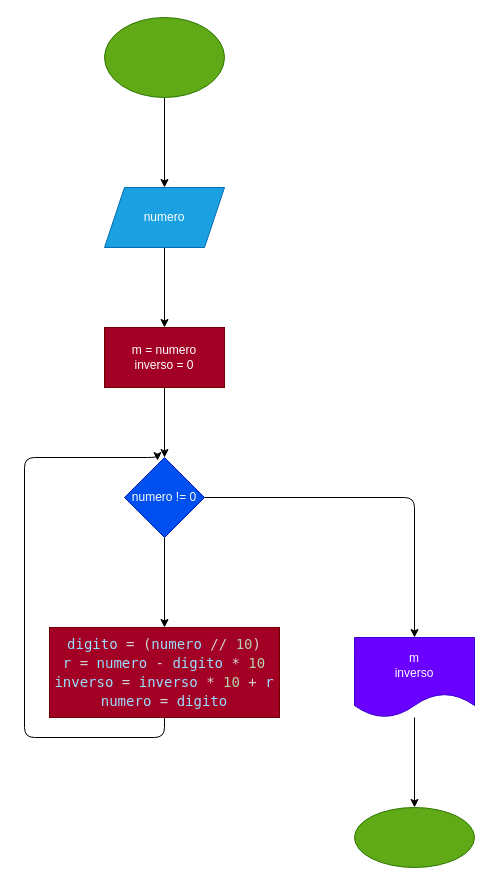
The diagram is 492 pixels wide and 885 high, and some of its shapes have lost their labels. Here are the shapes that lost their labels. From the top down, the box of each, then its label:
(104, 16, 224, 98): INICIO
(354, 806, 474, 868): FIN
